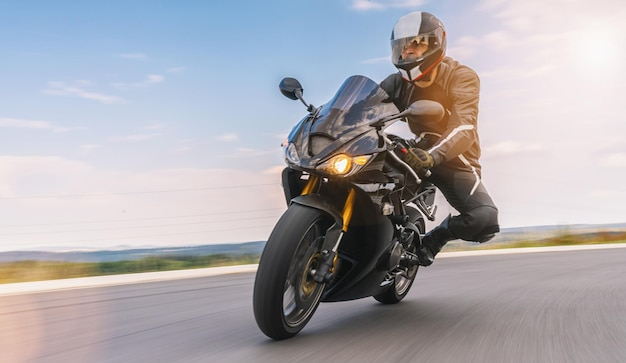Motorcycle: (254, 70, 508, 339)
